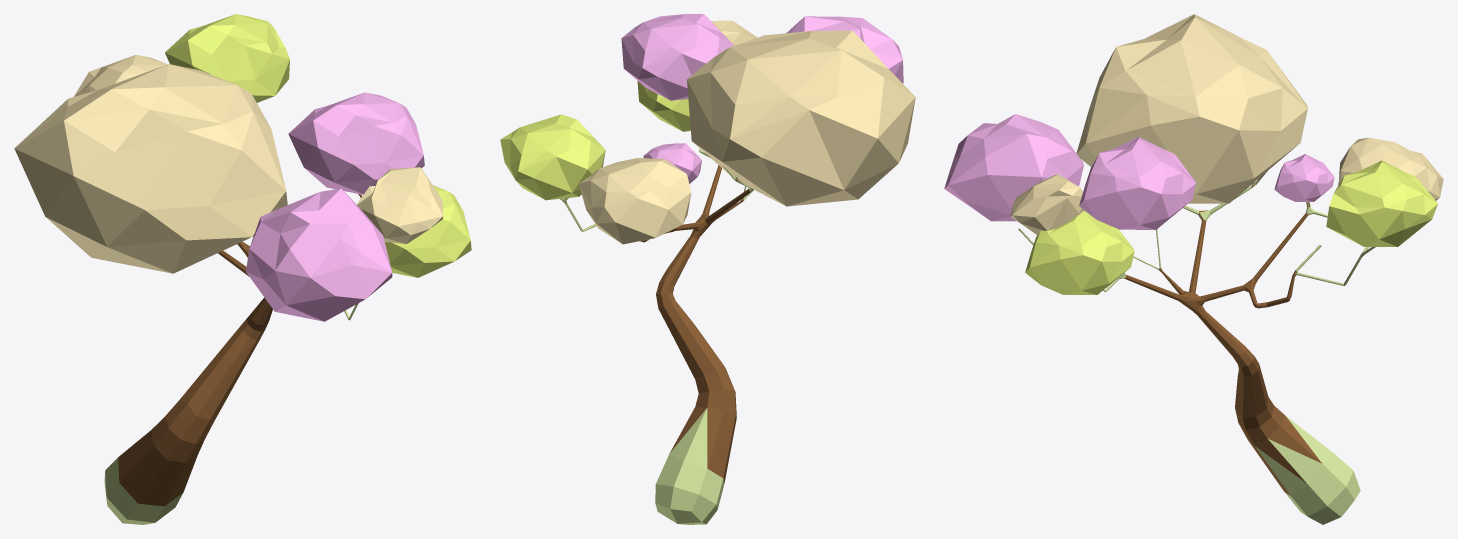
Rendered from VRTree.fbx.
3 views of the same model, side by side, from view 1: azimuth 30°, elevation 25°; view 2: azimuth 150°, elevation 25°; view 3: azimuth 270°, elevation 25° (orthographic). The views are drawn at different scales.
Parts seen in each view (by area): view 1: VRTree; view 2: VRTree; view 3: VRTree.
Boxes of the visible parts, <box> form: VRTree: <box>14,14,471,524</box>; VRTree: <box>500,14,915,524</box>; VRTree: <box>944,14,1443,524</box>.
Size of the model in its own units: 347 by 479 by 472.
